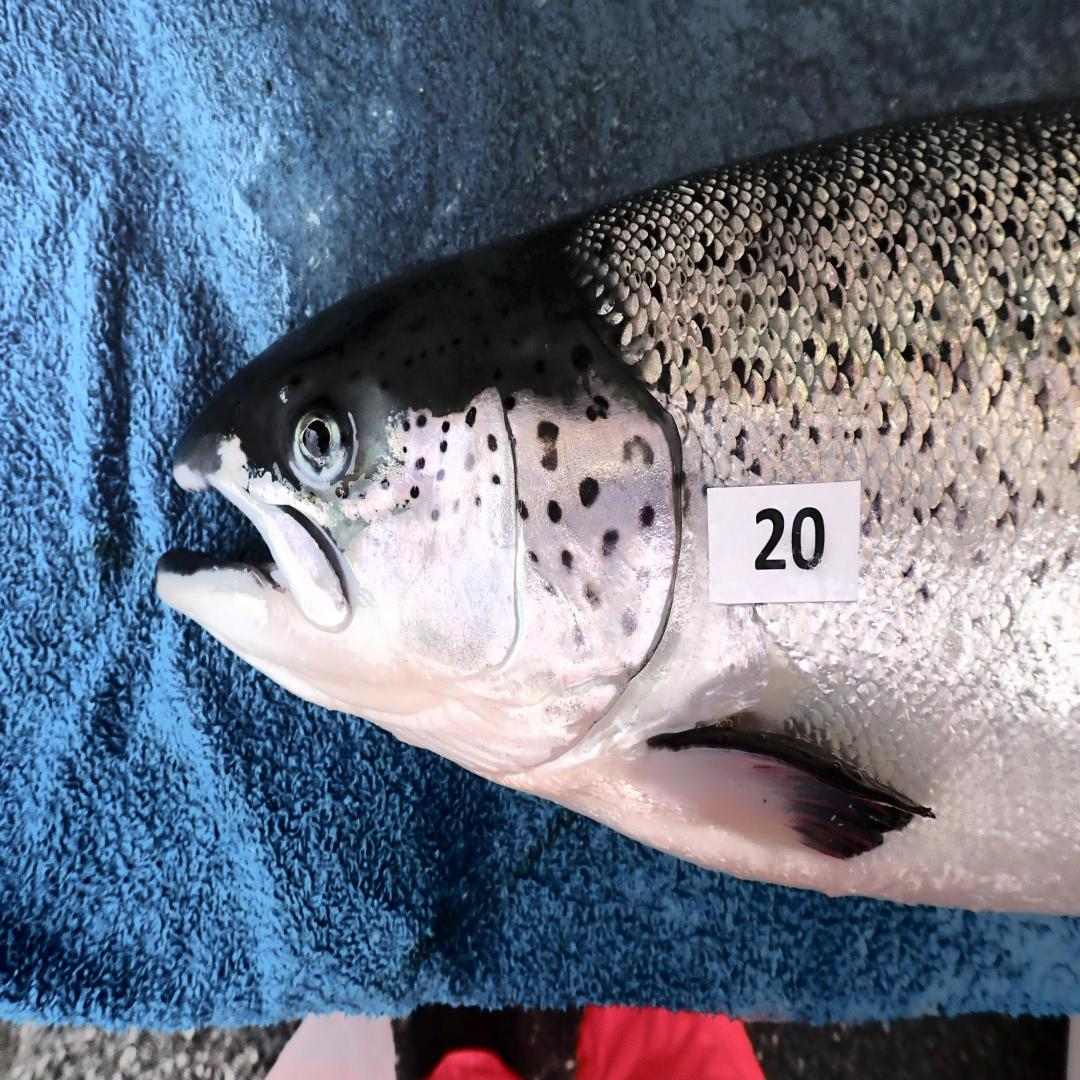spot: (538, 422, 559, 470), (622, 436, 654, 467), (586, 397, 610, 422), (635, 562, 654, 593), (578, 478, 599, 506), (601, 529, 618, 557), (582, 585, 601, 610), (570, 619, 586, 647), (622, 608, 637, 636), (540, 577, 559, 596), (639, 506, 656, 526), (390, 501, 411, 515), (548, 501, 561, 523), (561, 548, 574, 568), (487, 433, 498, 453), (466, 408, 477, 428), (464, 453, 474, 473), (519, 501, 529, 520), (430, 506, 441, 523), (502, 397, 515, 411), (416, 413, 426, 428), (452, 497, 460, 514), (356, 489, 367, 501), (409, 487, 420, 498), (380, 477, 389, 489), (529, 551, 538, 562), (416, 458, 424, 470), (437, 470, 445, 481), (441, 422, 449, 433), (403, 419, 411, 430), (491, 475, 500, 484), (475, 496, 481, 508), (441, 442, 447, 453), (401, 447, 407, 453)
